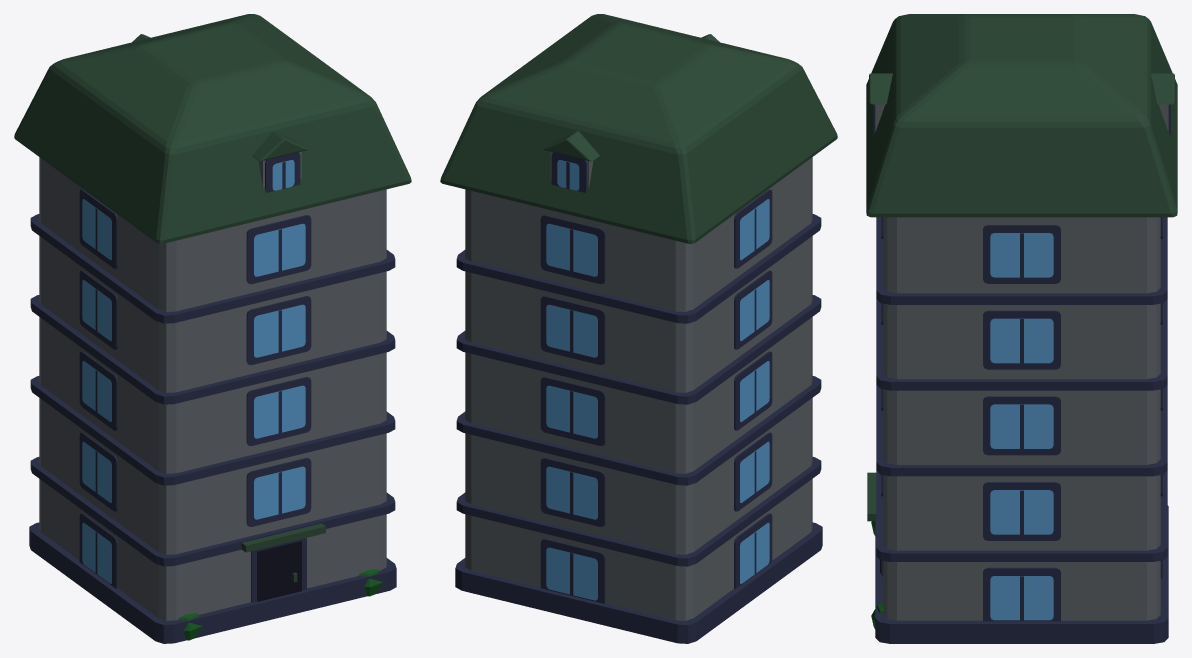
File: house-1x1-5f-mansard-d.glb
3 renders of one model, left to right at view 1: azimuth 30°, elevation 25°; view 2: azimuth 150°, elevation 25°; view 3: azimuth 270°, elevation 25°, orthographic. The views are drawn at different scales.
Parts seen in each view (by area): view 1: house-1x1-5f-mansard-d; view 2: house-1x1-5f-mansard-d; view 3: house-1x1-5f-mansard-d.
Part boxes in pixels (x1=…): house-1x1-5f-mansard-d: x1=14, y1=14, x2=411, y2=643; house-1x1-5f-mansard-d: x1=440, y1=14, x2=837, y2=643; house-1x1-5f-mansard-d: x1=866, y1=14, x2=1177, y2=643.
Bounding box in the file's own units: 0.9876 × 1.9 × 0.9876.
1 material, 1 textured.
